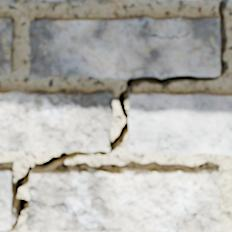brick: (26, 168, 219, 231), (29, 16, 219, 77), (0, 90, 113, 151), (128, 93, 231, 155), (0, 168, 13, 229), (0, 17, 13, 74), (1, 0, 13, 2)
crack: (1, 0, 229, 231)
